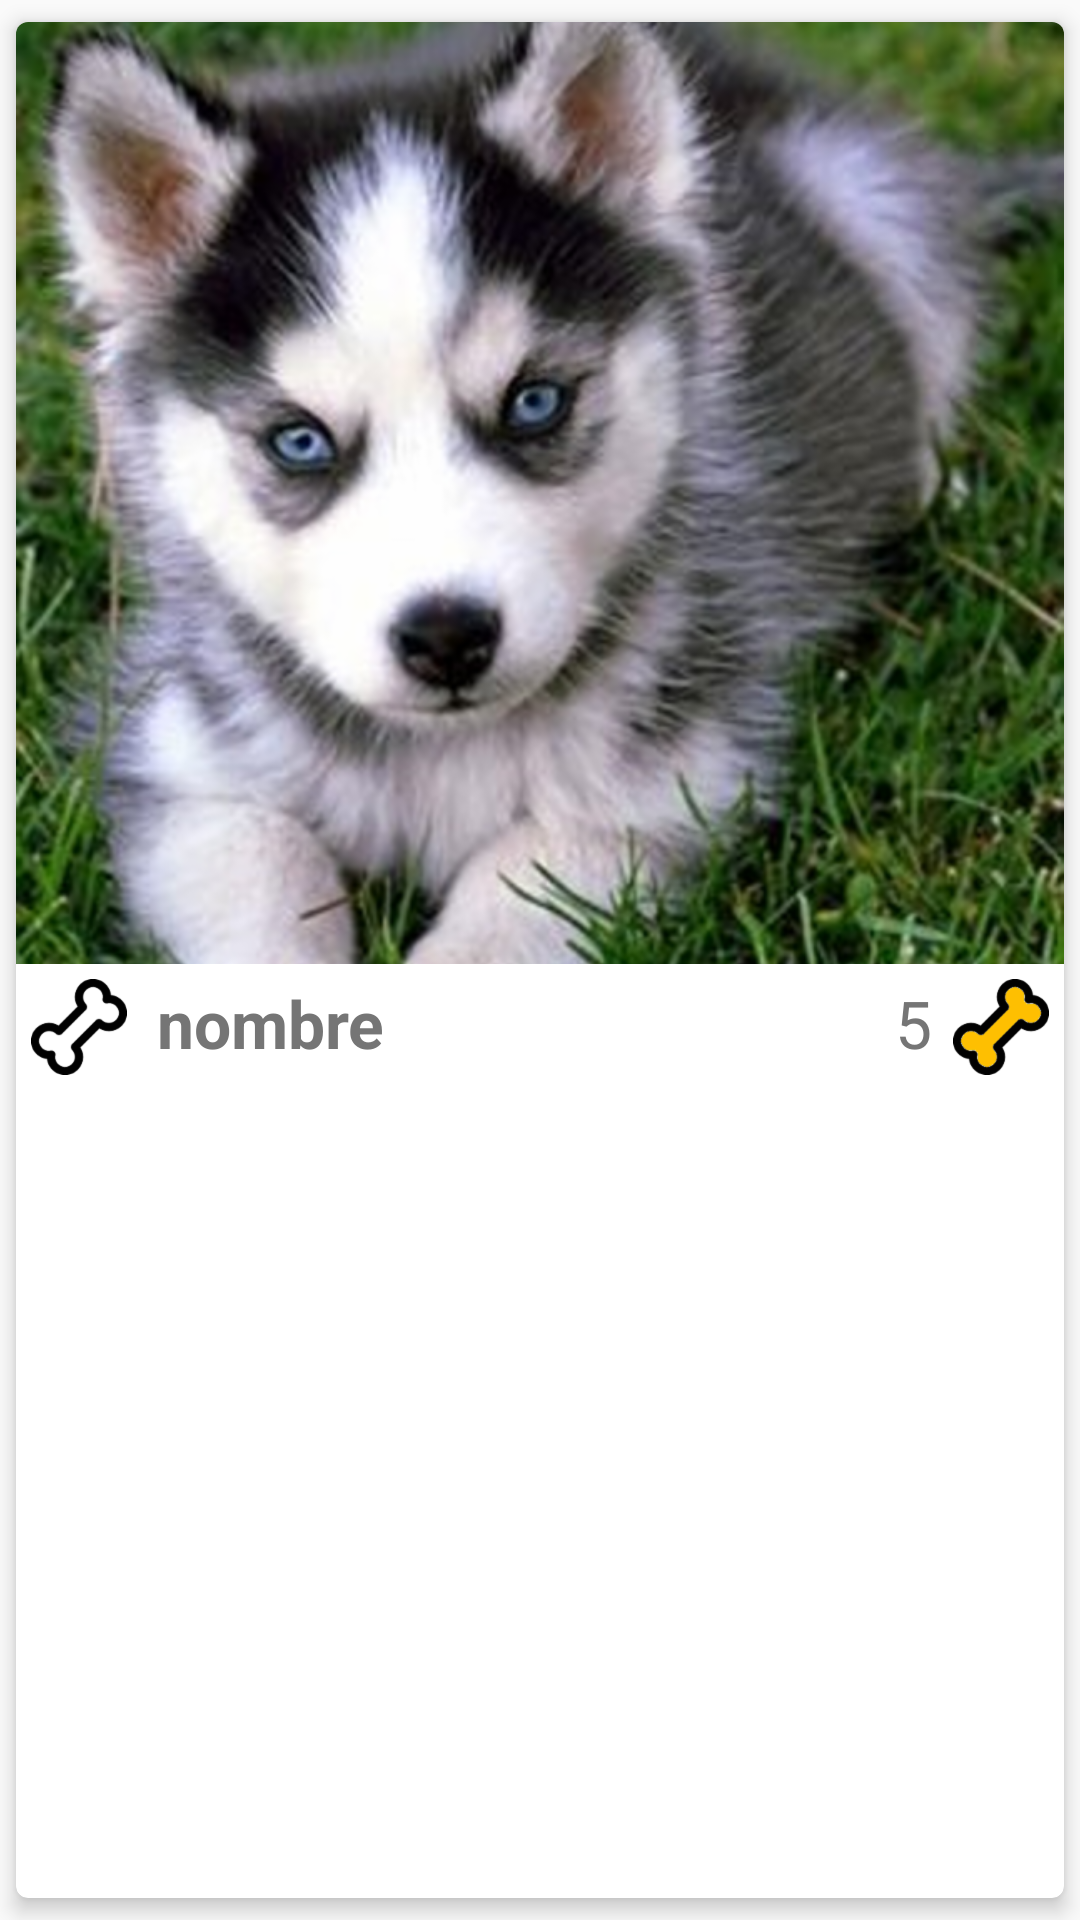

Where icons sit on this 1080w x 1920h app screen, as (x1, y1, x2, y2):
boneamarillo: (953, 979, 1049, 1075)
bonebolanco: (31, 979, 127, 1075)
